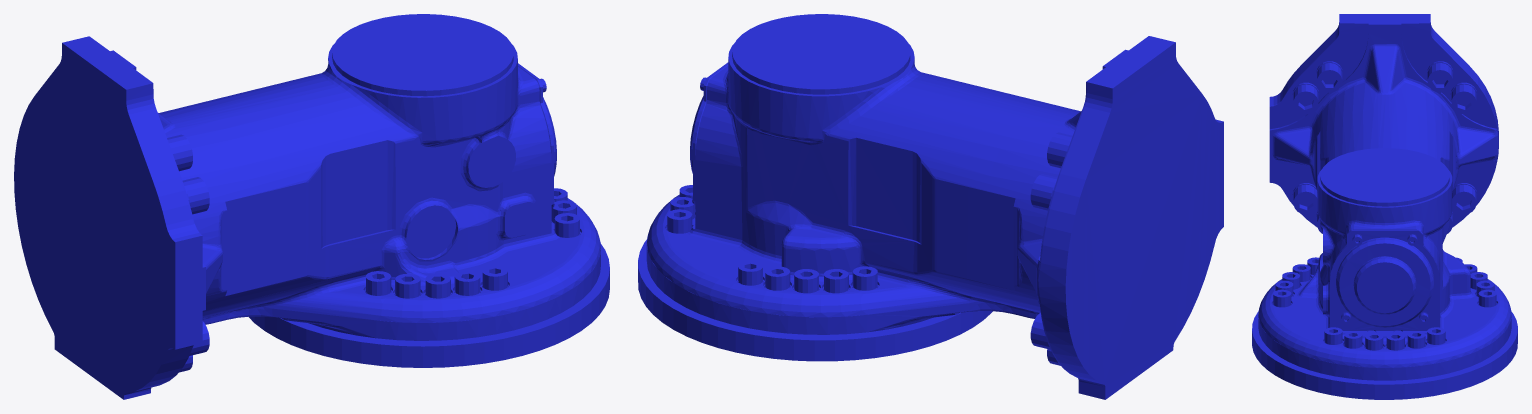
The picture shows the model from 3 angles, left to right: view 1: azimuth 30°, elevation 25°; view 2: azimuth 150°, elevation 25°; view 3: azimuth 270°, elevation 25°; orthographic projection. The views are drawn at different scales.
Visible parts, largest first — view 1: /Link4/Link4_004-mesh/0; view 2: /Link4/Link4_004-mesh/0; view 3: /Link4/Link4_004-mesh/0.
Boxes of the visible parts, bbox=[...] form: /Link4/Link4_004-mesh/0: bbox=[14, 14, 609, 399]; /Link4/Link4_004-mesh/0: bbox=[638, 14, 1223, 399]; /Link4/Link4_004-mesh/0: bbox=[1252, 14, 1517, 399].
Bounding box in the file's own units: 0.2864 × 0.174 × 0.1889.
